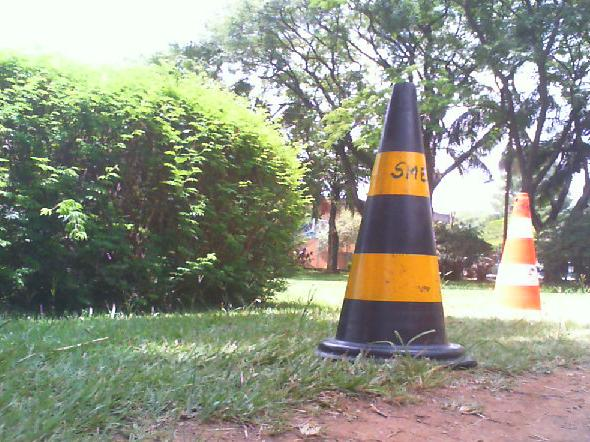0 cone: (314, 83, 478, 371), (490, 191, 542, 311)
